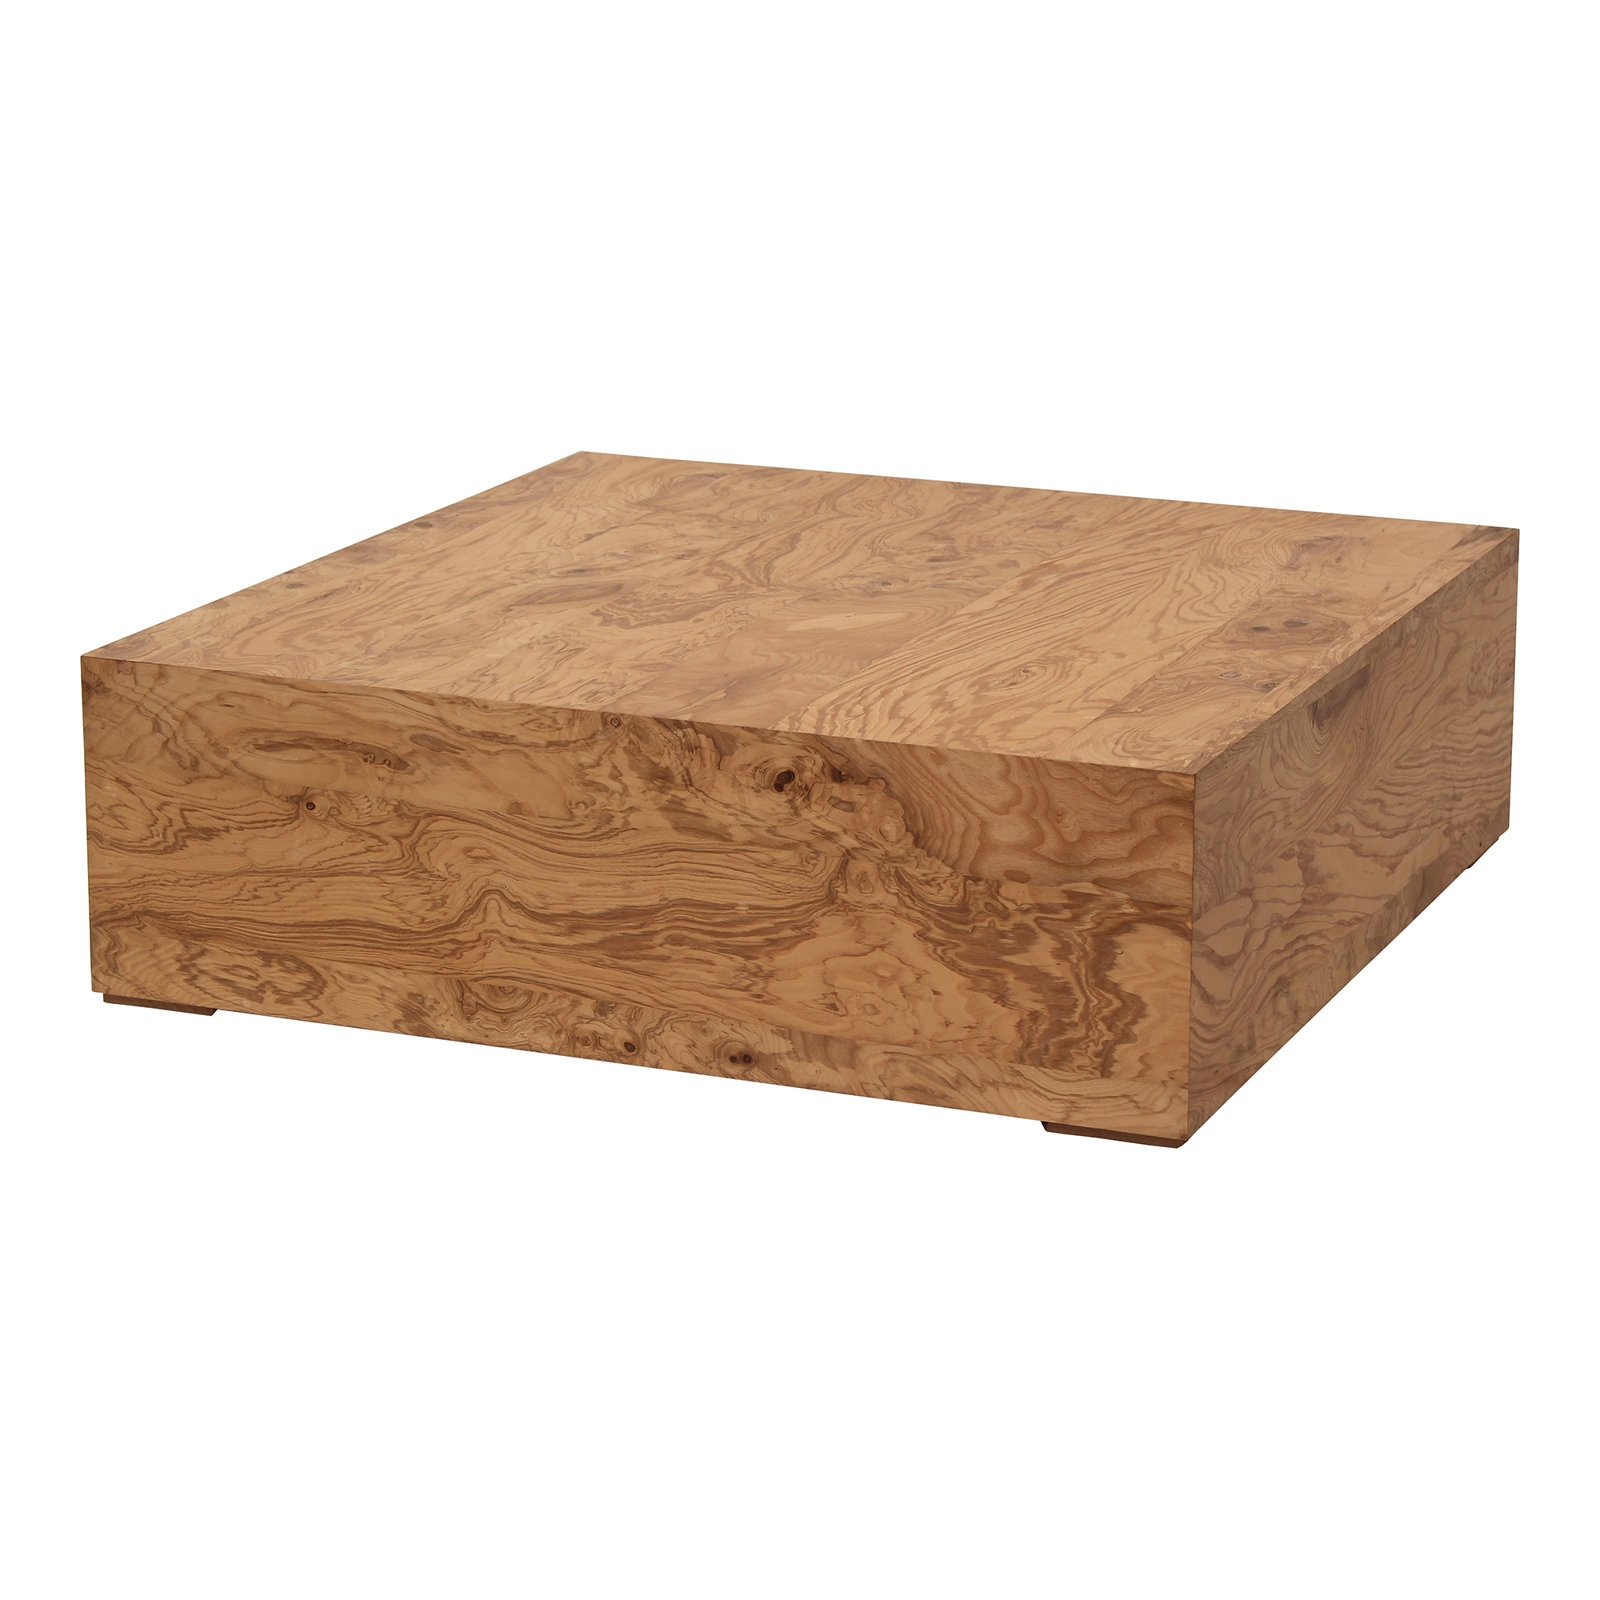obstacle: (84, 454, 1516, 1144)
